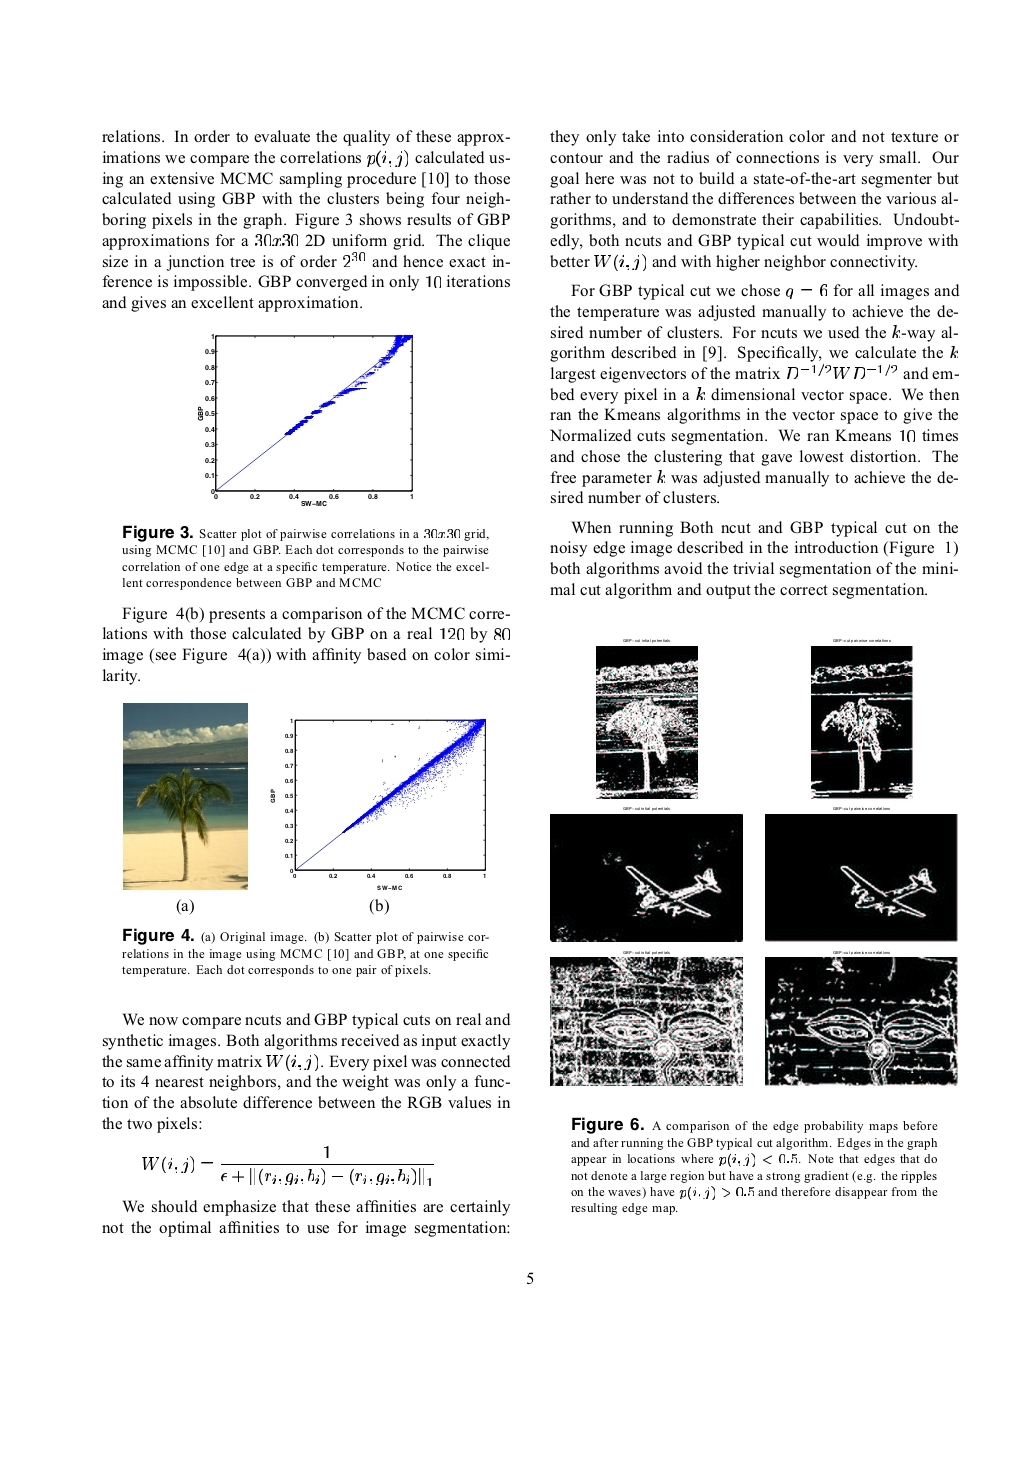figure: (197, 332, 412, 508), (270, 718, 485, 889), (550, 951, 742, 1085), (765, 810, 957, 941), (765, 954, 957, 1085), (550, 814, 742, 941), (123, 703, 247, 889), (596, 639, 697, 806), (811, 639, 912, 798)
formula: (142, 1144, 433, 1186)
